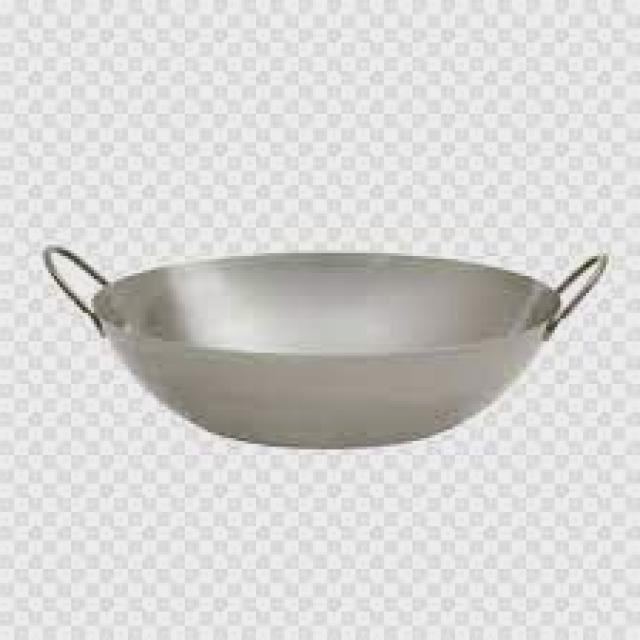Wajan: (34, 201, 618, 465)
